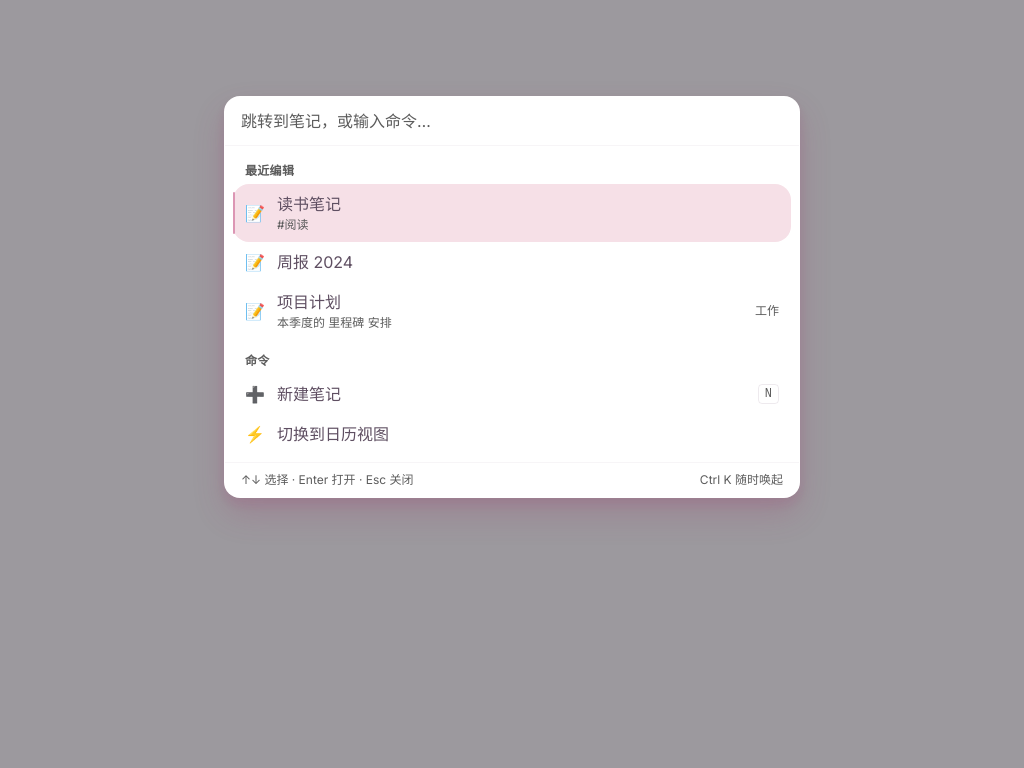
Test: CommandPalette › 输入查询：模糊匹配标题，并提供“新建笔记「查询」”
Type "计划" into the dropdown.
click(512, 121); type("计划")  # box top-left (241, 109), bottom-right (783, 133)
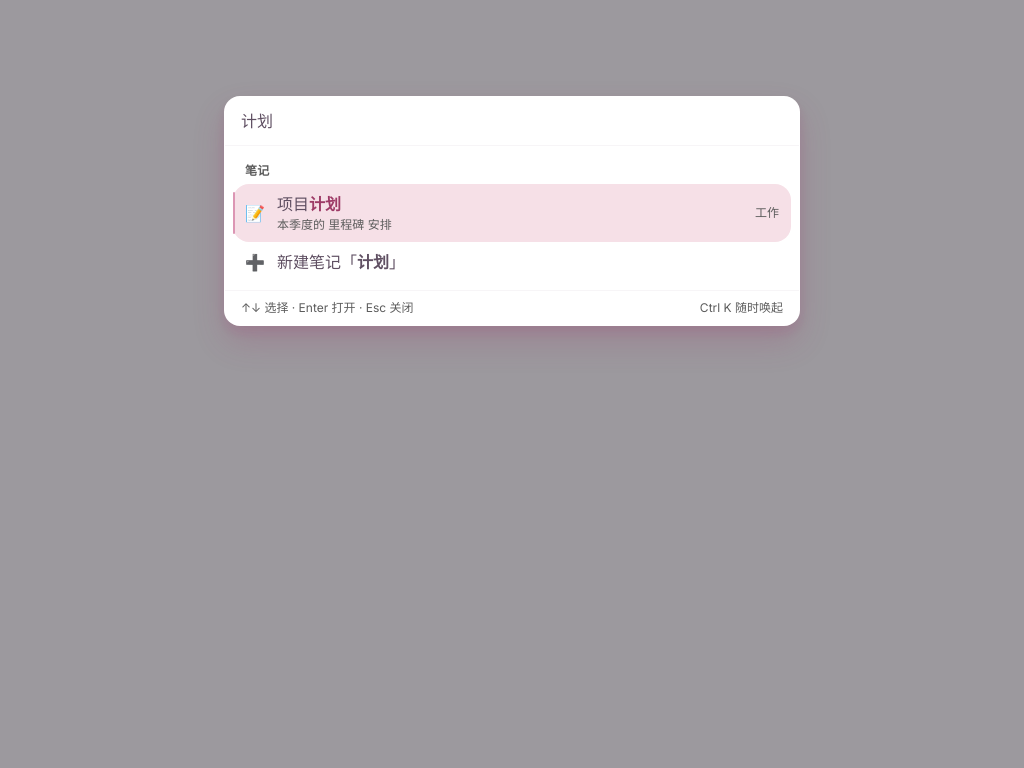
Check: the option "📝 项目计划 本季度的 里程碑 安排 工作" is shown, box top-left (233, 184), bottom-right (791, 242)
Check: the option "读书笔记" is gone
Check: the option "➕ 新建笔记「计划」" is shown, box top-left (245, 252), bottom-right (405, 272)
